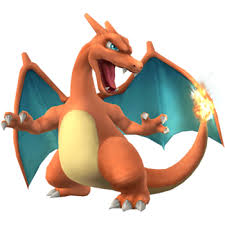charizard: (2, 13, 218, 213)
